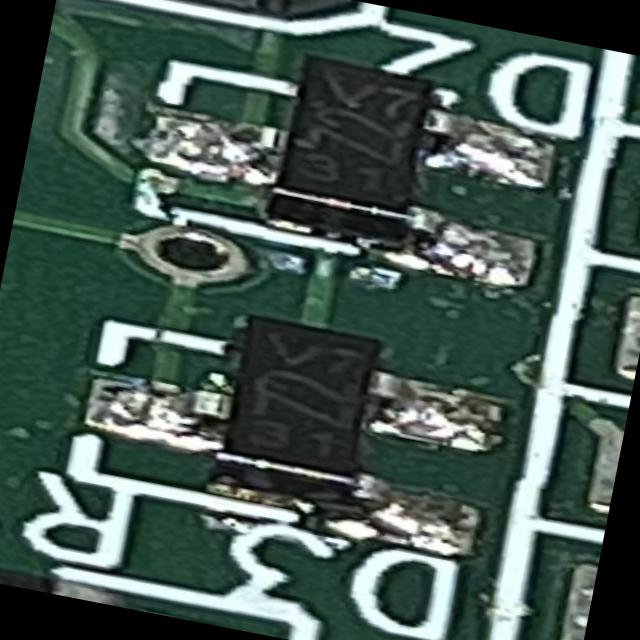transistor: (154, 286, 442, 538), (208, 36, 500, 276)
